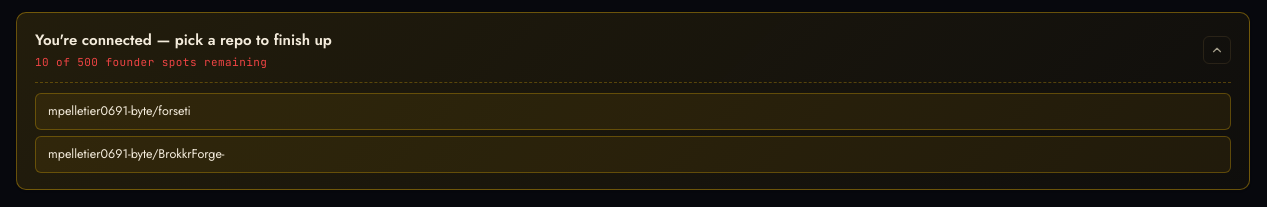
Bug-3/Bug-2 — confirmed different sub-causes, each fixed + tested › t_install_with_repos_no_project_shows_repo_picker (Michael-class)
Click the button with test id "connect-repo-banner-repo-mpelletier0691-byte/forseti".
click(119, 111)  # box [35, 93, 1231, 130]
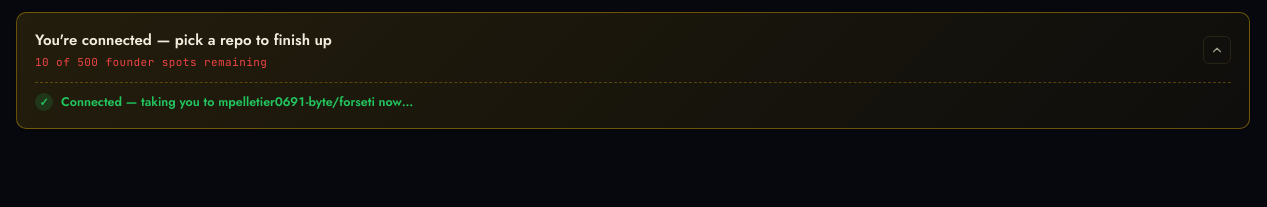
expect the element with test id "connect-repo-banner-success-beat" is shown: met, box [35, 93, 413, 111]
